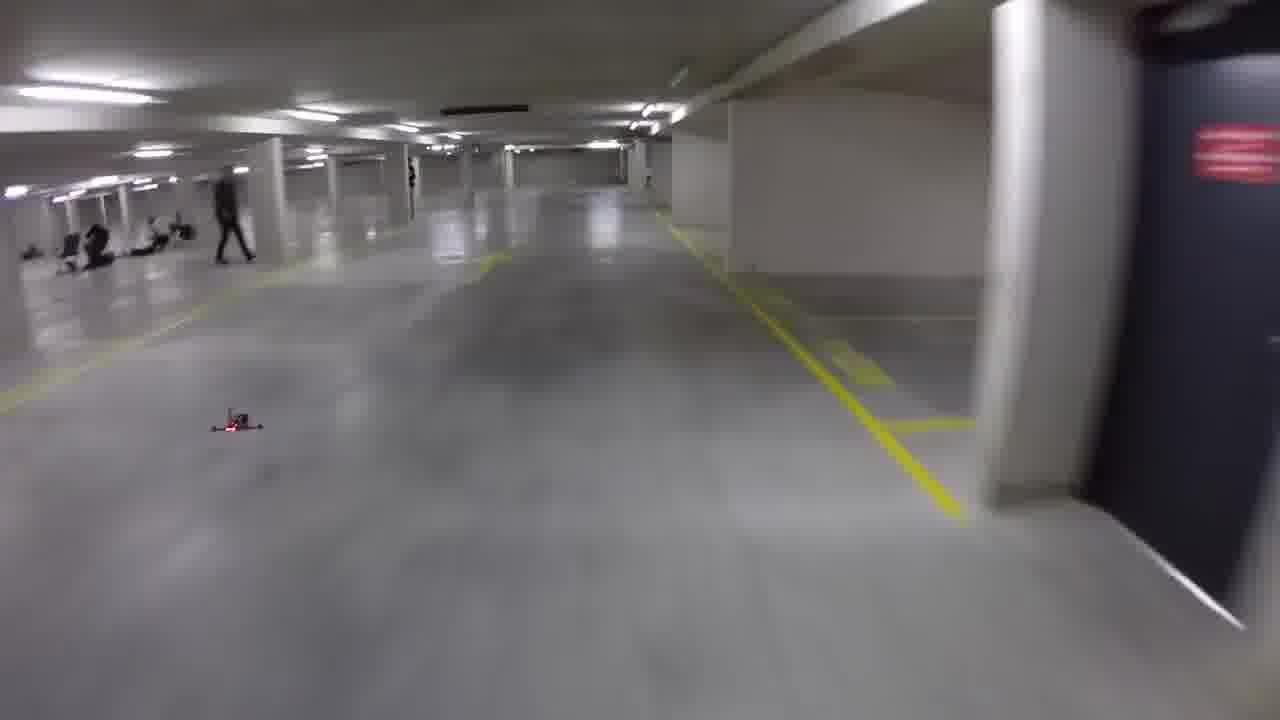drone: (207, 401, 267, 450)
